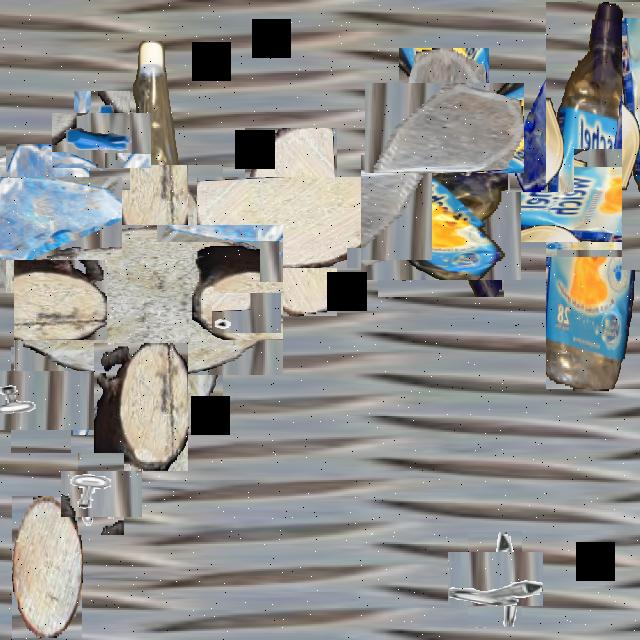glass: (382, 66, 506, 190), (0, 160, 106, 276), (508, 75, 574, 192), (0, 155, 36, 286)
metal: (557, 185, 640, 269), (0, 358, 82, 441), (63, 102, 141, 179), (458, 542, 532, 617), (69, 462, 133, 526), (218, 285, 274, 341), (470, 178, 510, 249)
plastic: (472, 75, 640, 315), (106, 41, 188, 393), (370, 146, 512, 288), (622, 18, 640, 270)
wood: (43, 196, 253, 406), (221, 152, 361, 292), (94, 343, 188, 471), (12, 496, 82, 638)
